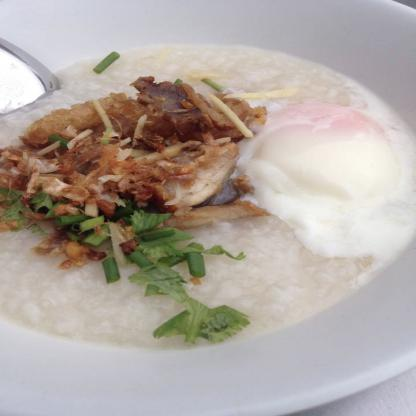Joke: (8, 30, 415, 364)
